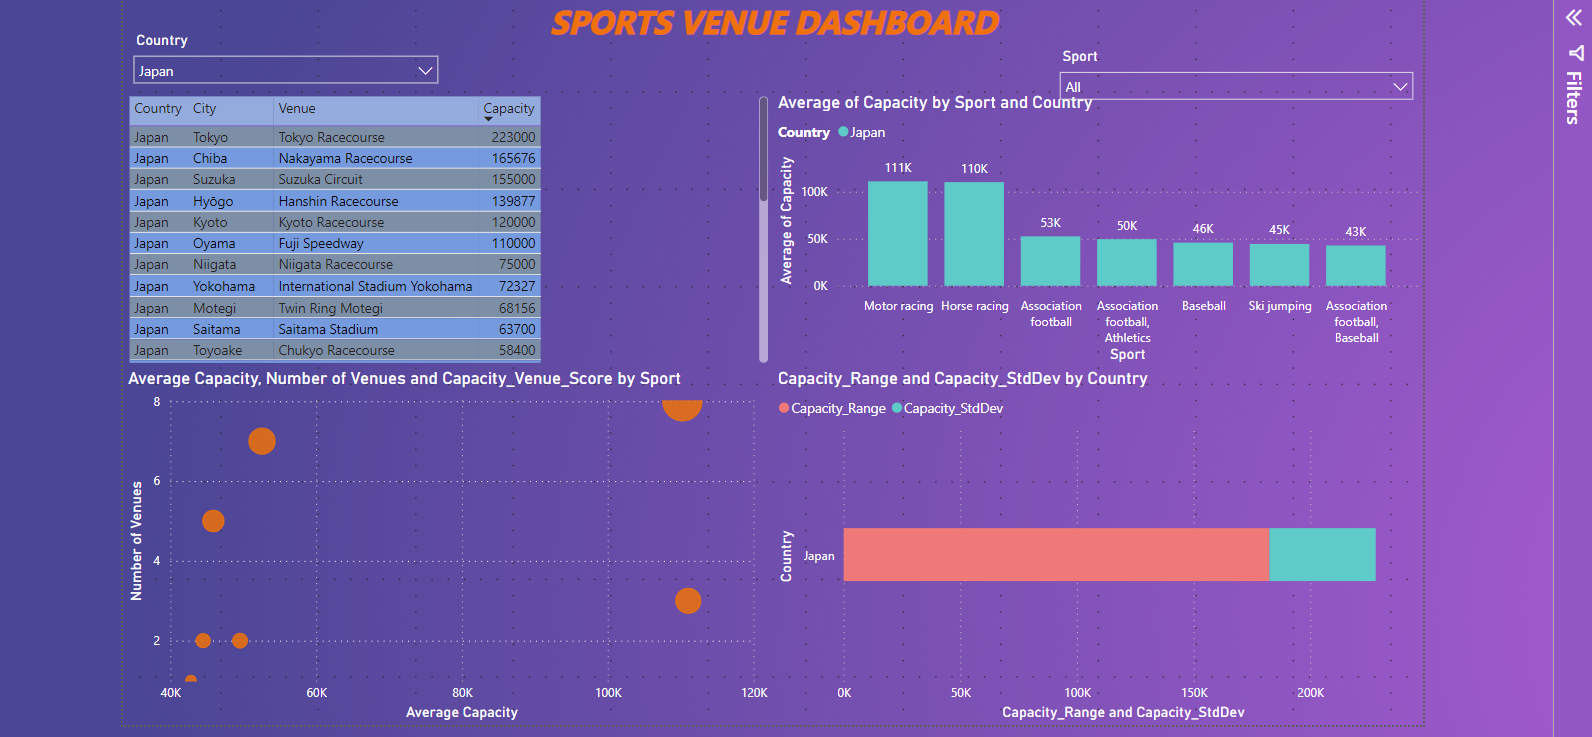

This screenshot's page, from the dashboard's own definition file:
{"tool":"powerbi","page":{"name":"Page 1","canvas":[1280,720],"ordinal":0},"visuals":[{"type":"tableEx","fields":{"Values":["sports_venue.Country","sports_venue.City","sports_venue.Venue","sports_venue.Capacity"]},"box":[0,96,640,272],"z":0},{"type":"slicer","fields":{"Values":["sports_venue.Country"]},"box":[0,32,320,64],"z":1000},{"type":"clusteredColumnChart","fields":{"Category":["sports_venue.Sport"],"Series":["sports_venue.Country"],"Y":["Avg(sports_venue.Capacity)"]},"box":[640,96,640,272],"z":2000},{"type":"slicer","fields":{"Values":["sports_venue.Sport"]},"box":[912,32,368,64],"z":3000},{"type":"scatterChart","fields":{"Category":["sports_venue.Sport"],"X":["sports_venue.Average Capacity"],"Size":["sports_venue.Capacity_Venue_Score"],"Y":["sports_venue.Number of Venues"]},"box":[0,368,640,352],"z":4000},{"type":"barChart","fields":{"Category":["sports_venue.Country"],"Y":["sports_venue.Capacity_Range","sports_venue.Capacity_StdDev"]},"box":[640,368,640,352],"z":5000},{"type":"textbox","box":[320,0,640,64],"z":5001}]}

Visuals, with their boxes in screenshot pixels (x1, y1, x2, y2):
tableEx - sports_venue.Country x sports_venue.City: Rect(124, 97, 771, 372)
slicer - sports_venue.Country: Rect(124, 32, 448, 97)
clusteredColumnChart - sports_venue.Sport x sports_venue.Country: Rect(771, 97, 1418, 372)
slicer - sports_venue.Sport: Rect(1046, 32, 1418, 97)
scatterChart - sports_venue.Sport x sports_venue.Average Capacity: Rect(124, 372, 771, 728)
barChart - sports_venue.Country x sports_venue.Capacity_Range: Rect(771, 372, 1418, 728)
textbox: Rect(448, 0, 1095, 65)
